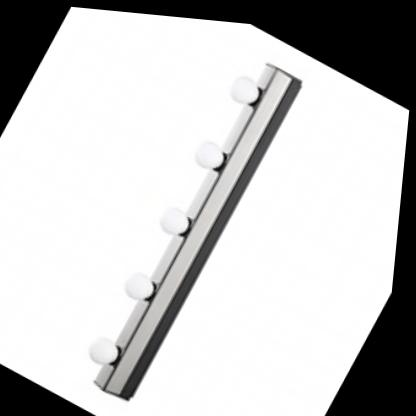Lamp: (58, 11, 330, 416)
